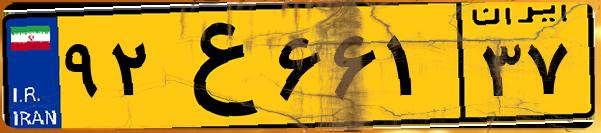1: (385, 28, 445, 110)
2: (110, 28, 158, 98)
3: (475, 38, 525, 113)
6: (270, 28, 330, 110), (330, 28, 385, 110)
7: (525, 38, 570, 115)
9: (57, 26, 110, 100)
ع: (158, 12, 270, 120)
